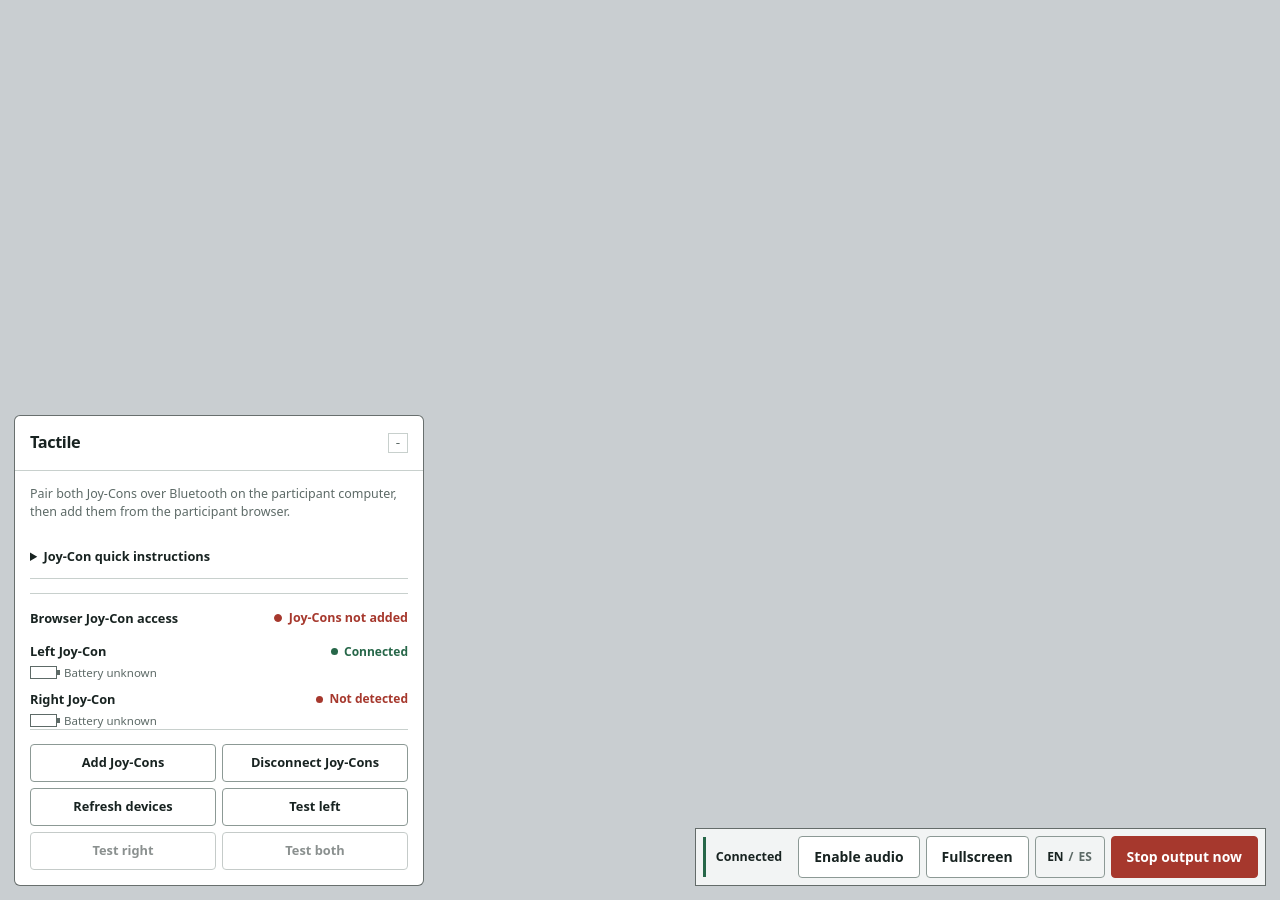
Test: ClientSessionPage › removes manual Joy-Con test pulses while output is running or stopping
Click the button "Test left" at (315, 807), box [222,788,408,826]
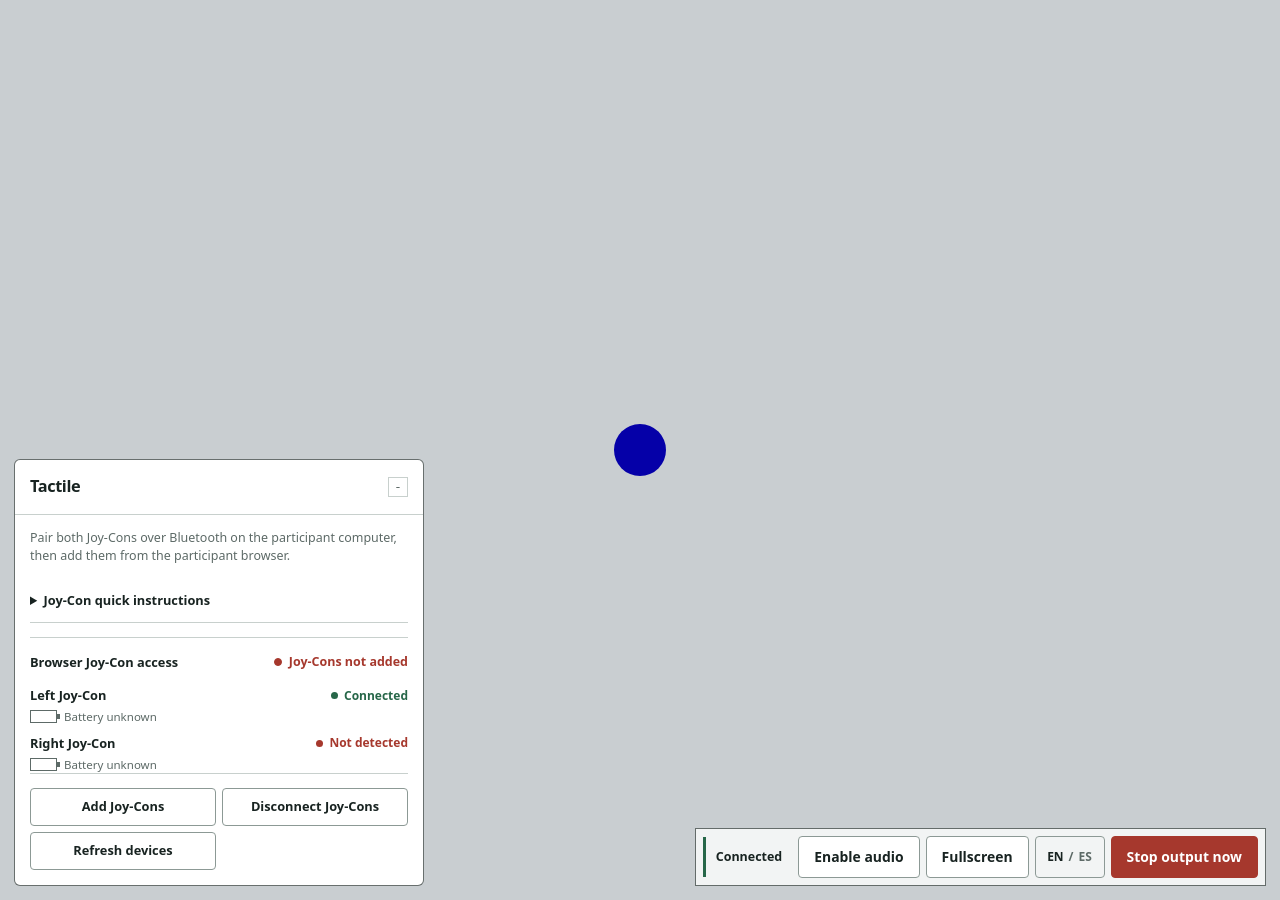
Expected: the button "Test left" is gone
